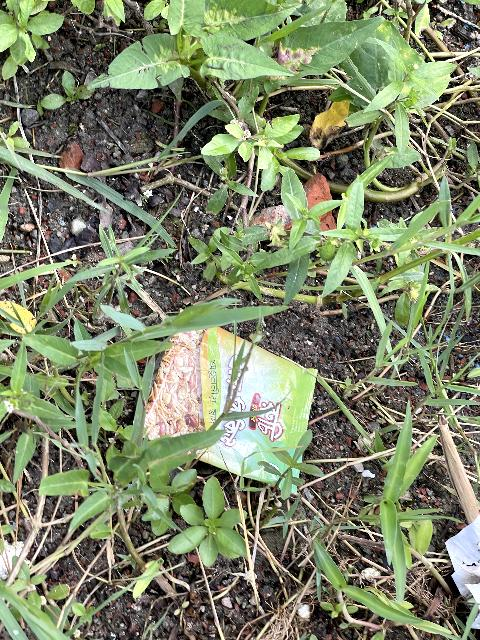packet: (141, 300, 321, 496)
